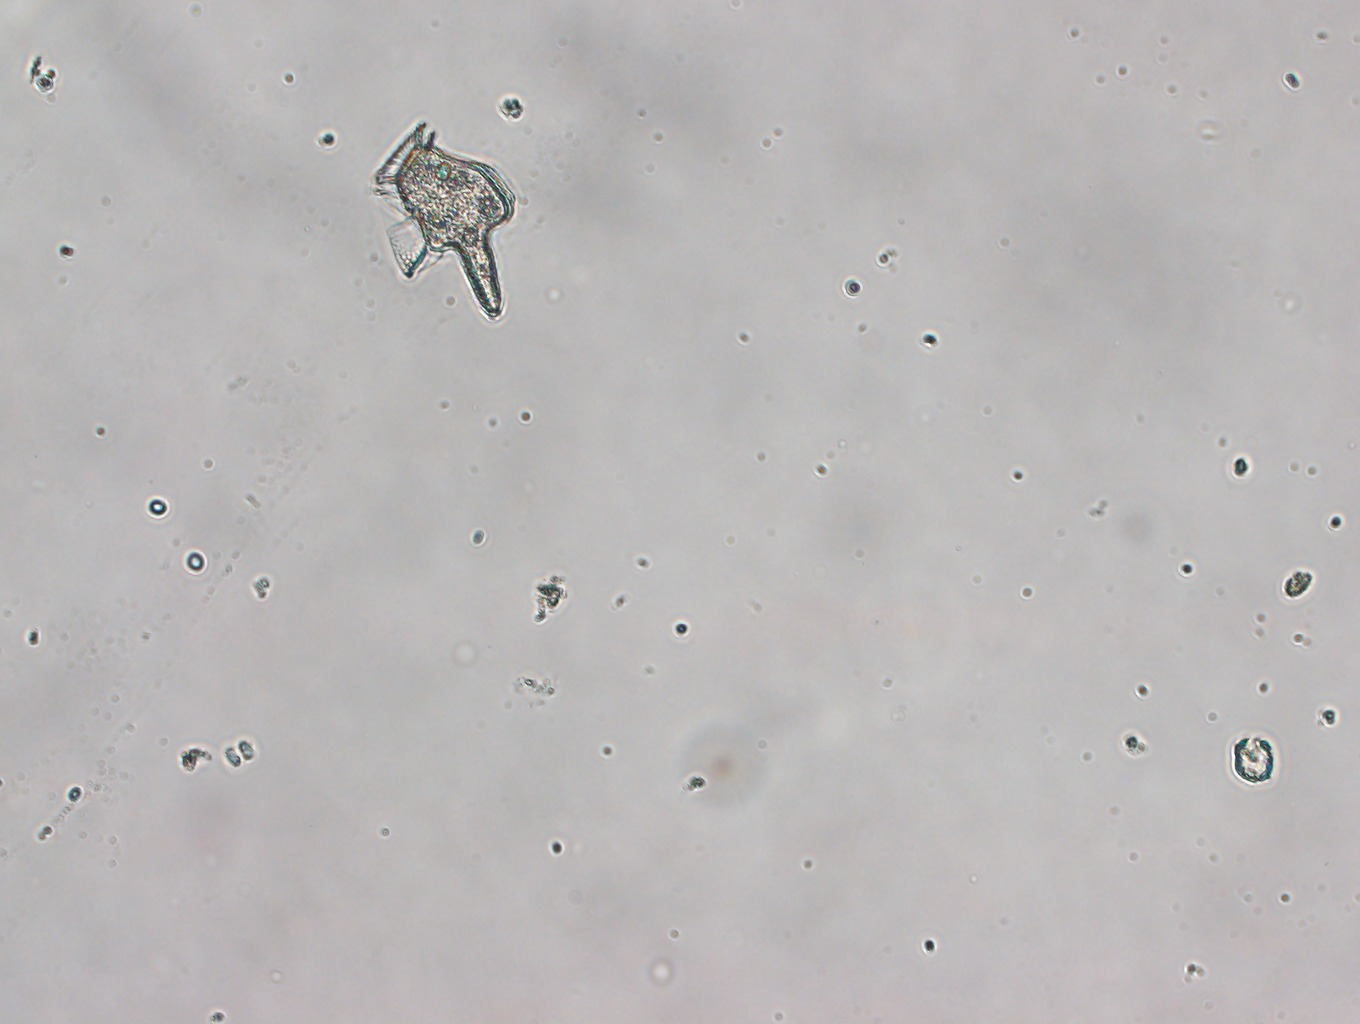dinophysis caudata: (368, 117, 515, 323)
